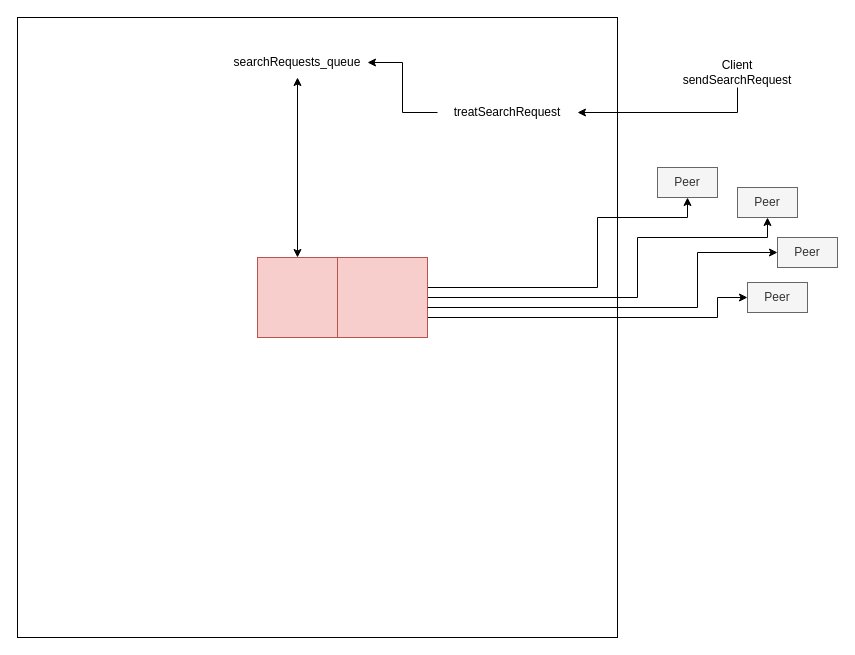
The diagram is 855 pixels wide and 655 high, and some of its shapes have lost their labels. Here are the shapes that lost their labels. From the top down, the box of each, then its label:
(256, 256, 338, 338): requests resolver thread
(336, 256, 428, 338): for all peers connected cascade the request
